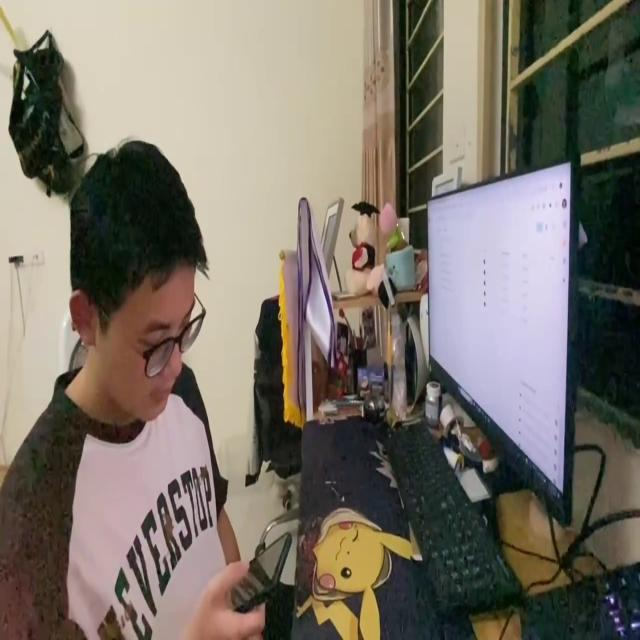laptop: (424, 147, 586, 519)
phone: (223, 528, 291, 604)
student: (4, 126, 294, 640)
